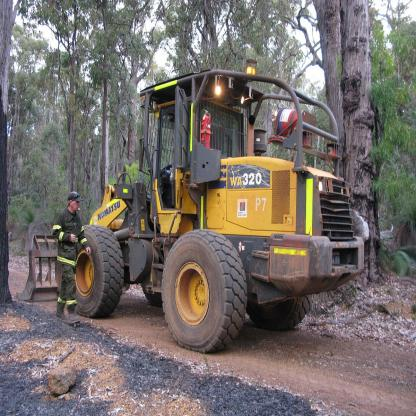bull_dozer/loader/grader: (25, 65, 364, 370)
person: (49, 186, 90, 326)
